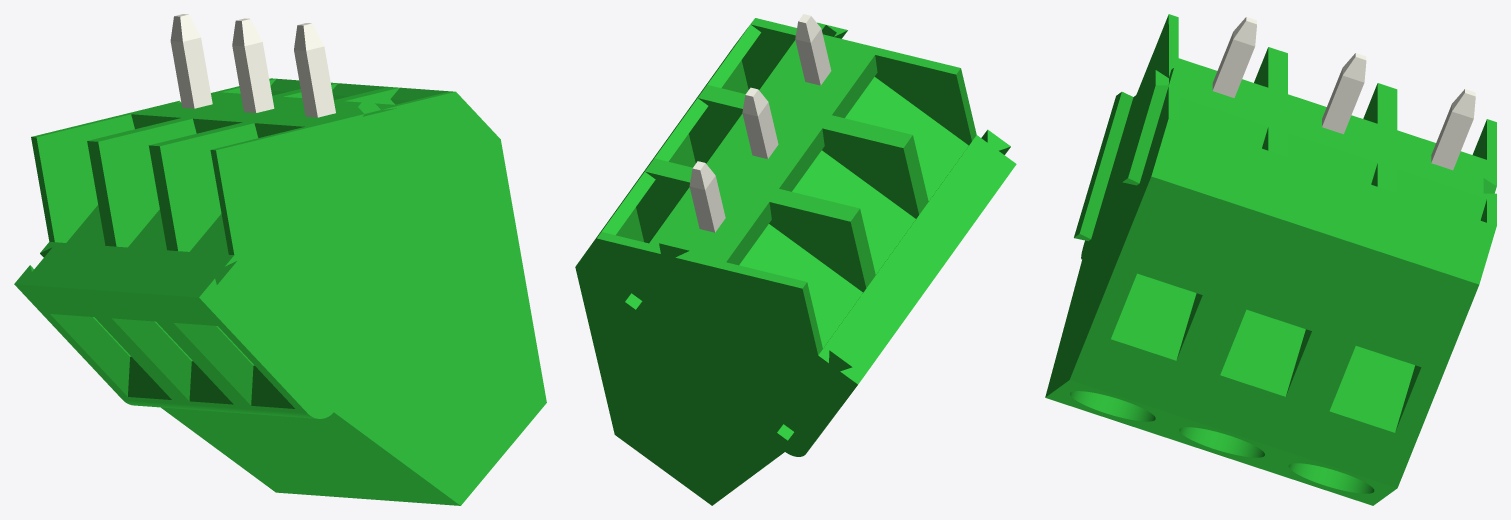
Rendered from EBoxNewAsm_stp_1_UTeensyBreakout_1_stp_1_EK500A_03P_stp_7_solid1.obj.
The picture shows the model from 3 angles, left to right: view 1: azimuth 30°, elevation 25°; view 2: azimuth 150°, elevation 25°; view 3: azimuth 270°, elevation 25°; orthographic projection. The views are drawn at different scales.
Visible parts, largest first — view 1: mesh8706, mesh8684, mesh8815, mesh8742, mesh8733, mesh8740, mesh8726, mesh8771, mesh8716, mesh8709, mesh8819, mesh8828 (+18 smaller); view 2: mesh8747, mesh8771, mesh8742, mesh8731, mesh8739, mesh8725, mesh8728, mesh8735, mesh8721, mesh8755, mesh8767, mesh8761 (+19 smaller); view 3: mesh8799, mesh8752, mesh8771, mesh8706, mesh8683, mesh8805, mesh8810, mesh8800, mesh8764, mesh8757, mesh8769, mesh8713 (+9 smaller).
Part boxes in pixels (box(x1,y1,x2,y2)): mesh8706: box(199, 92, 546, 505); mesh8684: box(161, 407, 460, 505); mesh8815: box(14, 284, 306, 413); mesh8742: box(14, 242, 236, 297); mesh8733: box(98, 118, 196, 247); mesh8740: box(36, 114, 134, 242); mesh8726: box(160, 123, 258, 251); mesh8771: box(31, 78, 455, 150); mesh8716: box(217, 260, 345, 400); mesh8709: box(362, 108, 468, 208); mesh8819: box(174, 323, 253, 405); mesh8828: box(112, 318, 191, 400); mesh8747: box(575, 238, 857, 505); mesh8771: box(597, 18, 960, 288); mesh8742: box(818, 130, 1016, 384); mesh8731: box(792, 150, 915, 274); mesh8739: box(739, 224, 862, 348); mesh8725: box(845, 77, 968, 200); mesh8728: box(822, 128, 918, 218); mesh8735: box(769, 202, 866, 292); mesh8721: box(875, 55, 971, 145); mesh8755: box(636, 171, 689, 242); mesh8767: box(689, 98, 742, 162); mesh8761: box(741, 24, 795, 89); mesh8799: box(1070, 176, 1478, 487); mesh8752: box(1151, 118, 1496, 284); mesh8771: box(1168, 14, 1496, 225); mesh8706: box(1045, 15, 1168, 397); mesh8683: box(1045, 380, 1397, 505); mesh8805: box(1220, 309, 1305, 396); mesh8810: box(1329, 346, 1414, 432); mesh8800: box(1111, 273, 1196, 360); mesh8764: box(1178, 97, 1267, 148); mesh8757: box(1397, 169, 1486, 220); mesh8769: box(1288, 133, 1377, 184); mesh8713: box(1079, 92, 1133, 238).
Size of the model in its own units: 0.0139 by 0.0223 by 0.0194.
